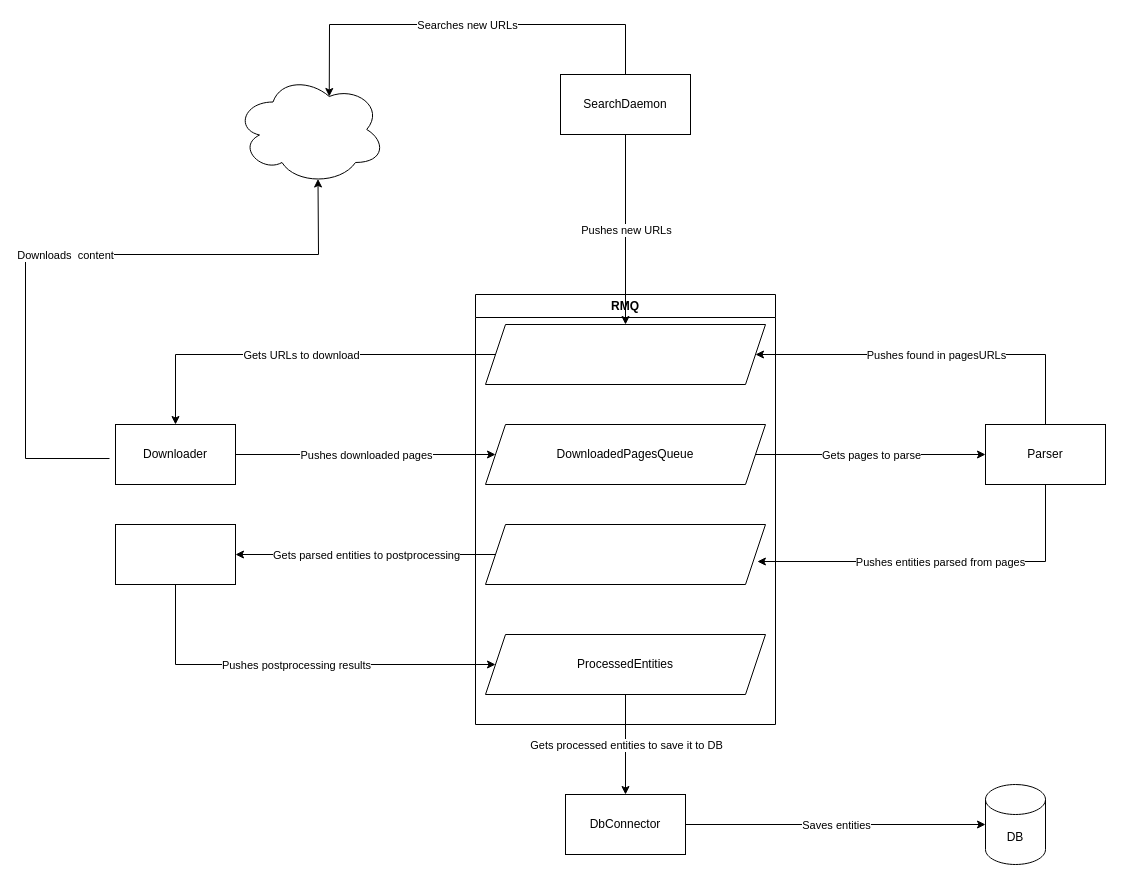
Image size: 1123x882. Some labels were removed from this diagram. The shapes that lost their labels are listed below. From the top down, each one's centre as x and y in pixels, then its label:
point (310, 129): Target resource(s)
point (625, 354): URLsQueue
point (175, 554): ResultProcessor
point (625, 554): ParsedPagesQueue
